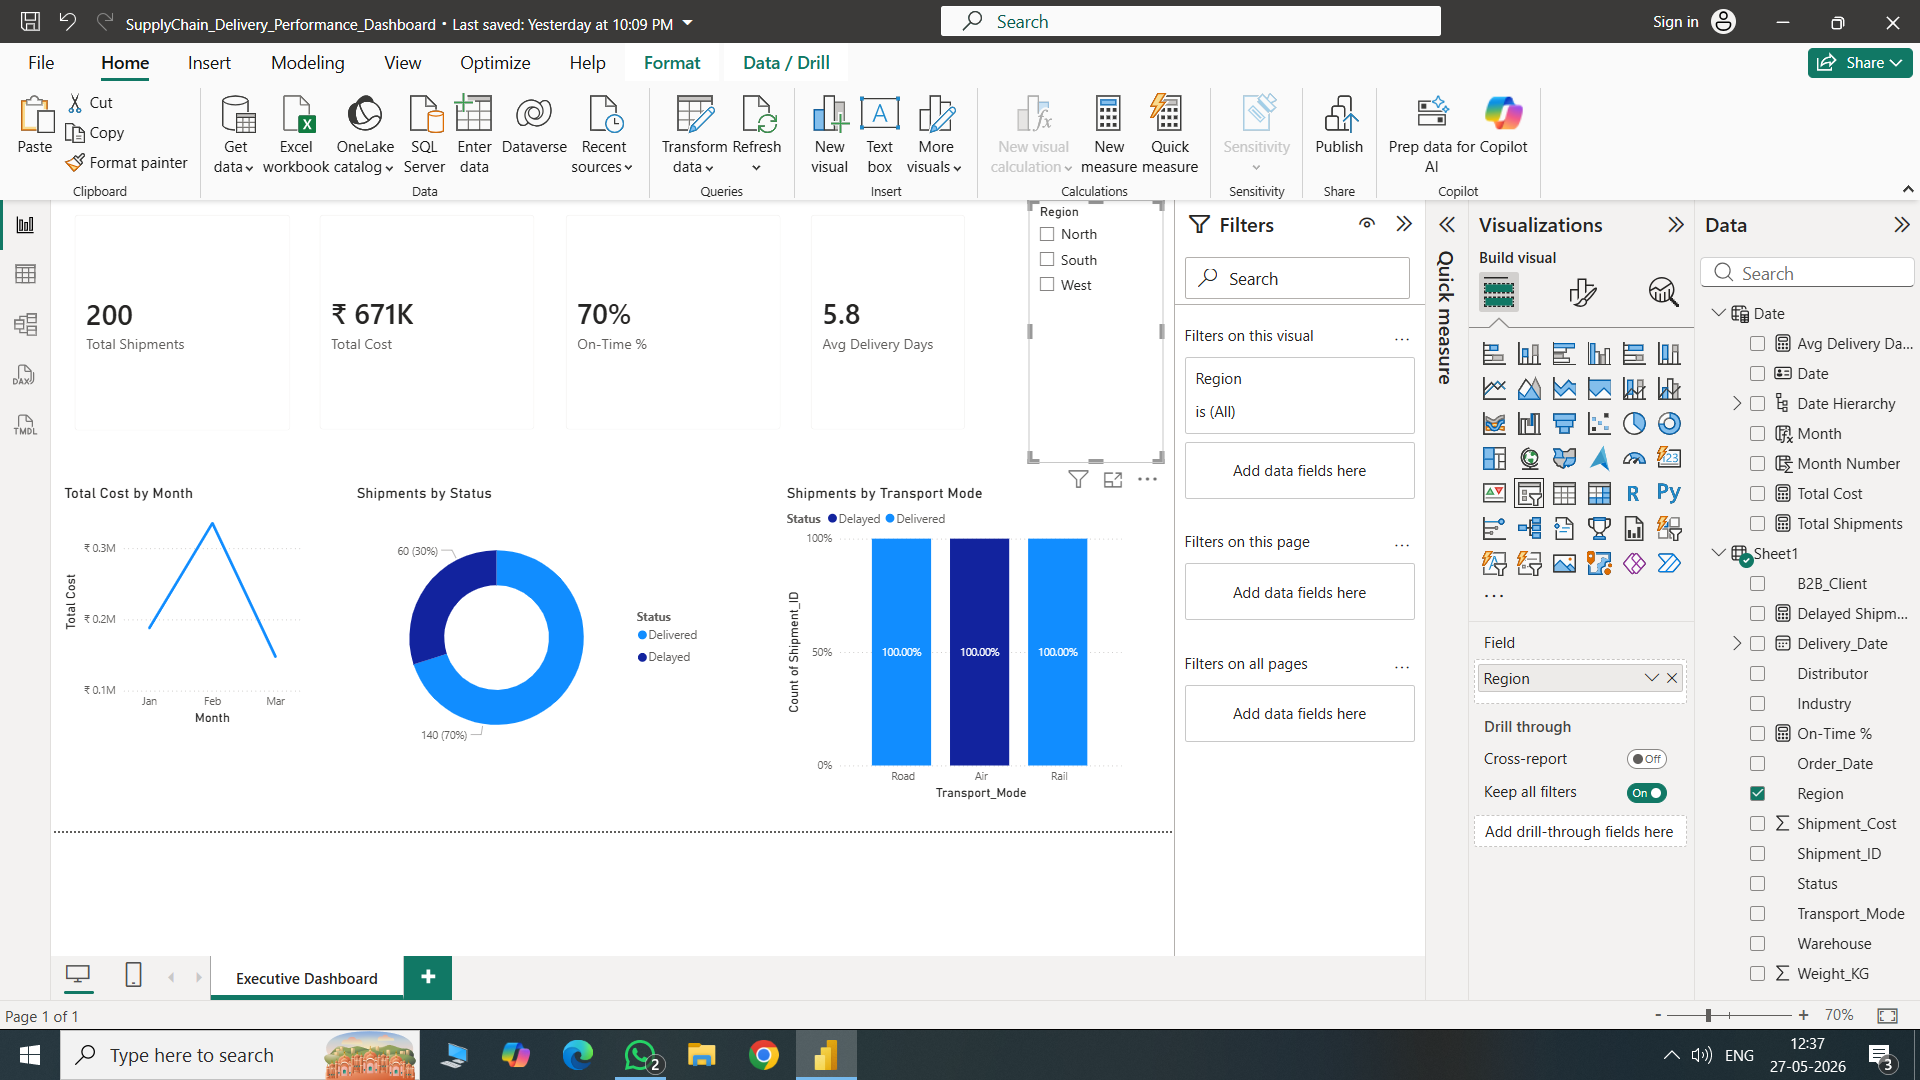

The dashboard page shown, as its layout file describes it:
{"tool":"powerbi","page":{"name":"Executive Dashboard","canvas":[1280,720],"ordinal":0},"visuals":[{"type":"cardVisual","fields":{"Data":["Date.Total Shipments"]},"box":[10,0,280,280],"z":0},{"type":"cardVisual","fields":{"Data":["Date.Total Cost"]},"box":[289.5,0,279.9,279.9],"z":1000},{"type":"cardVisual","fields":{"Data":["Sheet1.On-Time %"]},"box":[569.5,0,279.9,279.9],"z":2000},{"type":"lineChart","fields":{"Y":["Date.Total Cost"],"Category":["Date.Month"]},"box":[9.6,323.8,279.9,279.9],"z":4000},{"type":"donutChart","title":"Shipments by Status","fields":{"Category":["Sheet1.Status"],"Y":["CountNonNull(Sheet1.Shipment_ID)"]},"box":[343.1,323.8,407.5,332.1],"z":5000},{"type":"hundredPercentStackedColumnChart","title":"Shipments by Transport Mode","fields":{"Category":["Sheet1.Transport_Mode"],"Y":["CountNonNull(Sheet1.Shipment_ID)"],"Series":["Sheet1.Status"]},"box":[834.3,323.8,392.5,365],"z":6000},{"type":"slicer","fields":{"Values":["Sheet1.Region"]},"box":[1114.7,0,153.9,299.3],"z":7000},{"type":"cardVisual","fields":{"Data":["Date.Avg Delivery Days"]},"box":[849.5,0,211,279.4],"z":7001}]}

Visuals, with their boxes on the page's 1280x720 design canvas (x1, y1, x2, y2). These are canvas units, not pixel positions in the 1920x1080 screenshot, which may show the page scaled, cropped or inside an application window:
cardVisual - Date.Total Shipments: BBox(10, 0, 290, 280)
cardVisual - Date.Total Cost: BBox(290, 0, 569, 280)
cardVisual - Sheet1.On-Time %: BBox(570, 0, 849, 280)
lineChart - Date.Total Cost x Date.Month: BBox(10, 324, 290, 604)
"Shipments by Status" donutChart: BBox(343, 324, 751, 656)
"Shipments by Transport Mode" hundredPercentStackedColumnChart: BBox(834, 324, 1227, 689)
slicer - Sheet1.Region: BBox(1115, 0, 1269, 299)
cardVisual - Date.Avg Delivery Days: BBox(850, 0, 1060, 279)
